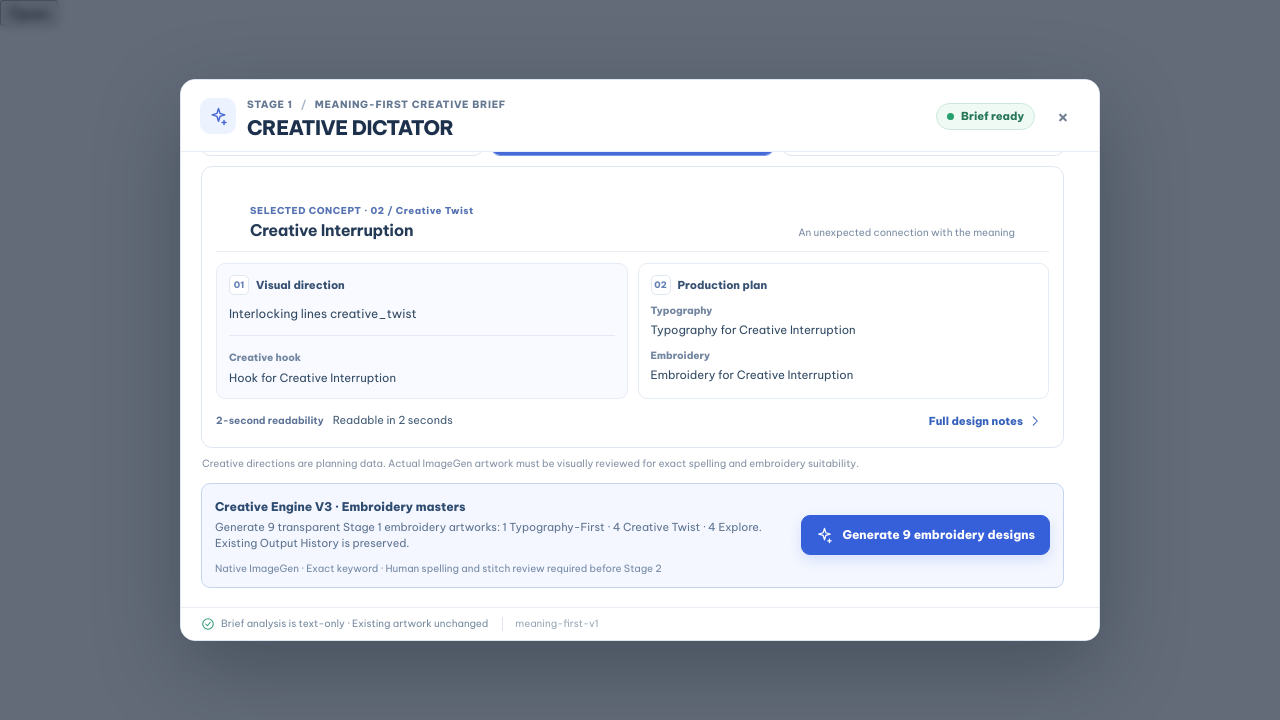
Test: Creative Brief V1 modal redesign › queues nine 1/4/4 embroidery slots only on a direct user click
(page scrolled)
Click the button "Generate 9 embroidery designs" at [926, 535], box [801,515,1050,555]
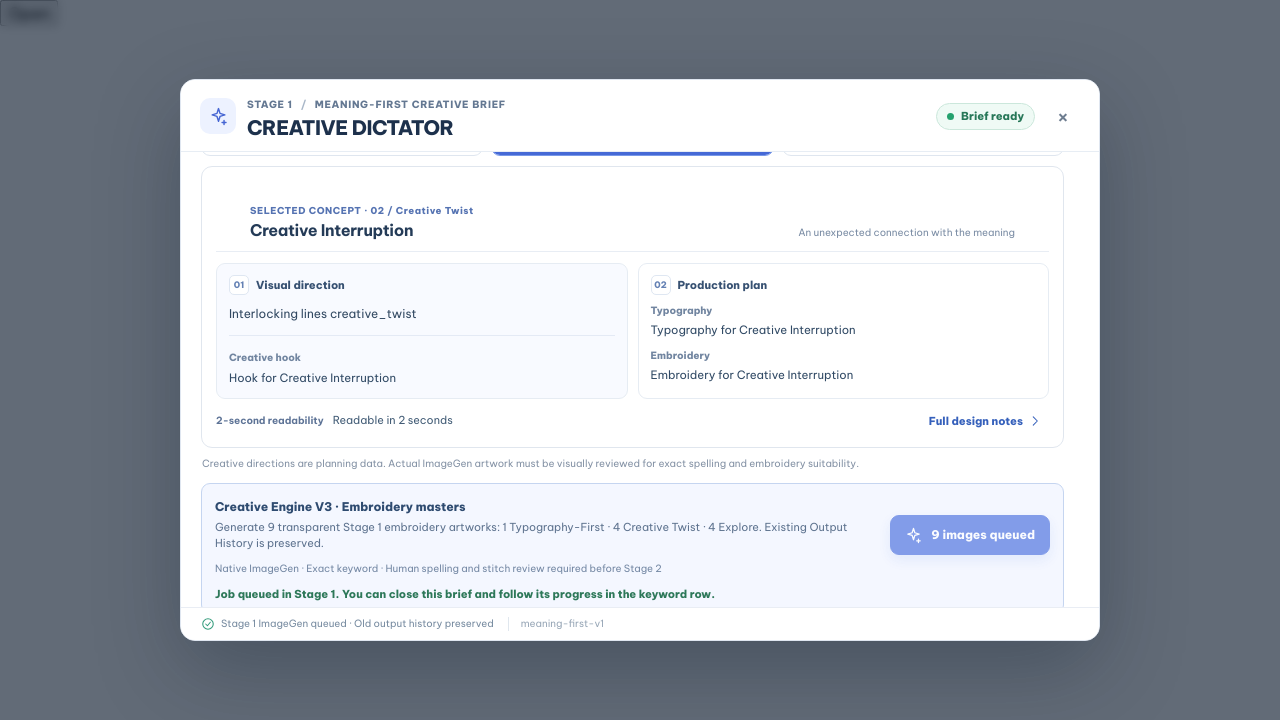
Expected: the element with class "rrugc-creative-v3-generate" shows "9 images queued", [890,515,1050,555]
Expected: the button "9 images queued" is disabled, [890,515,1050,555]
